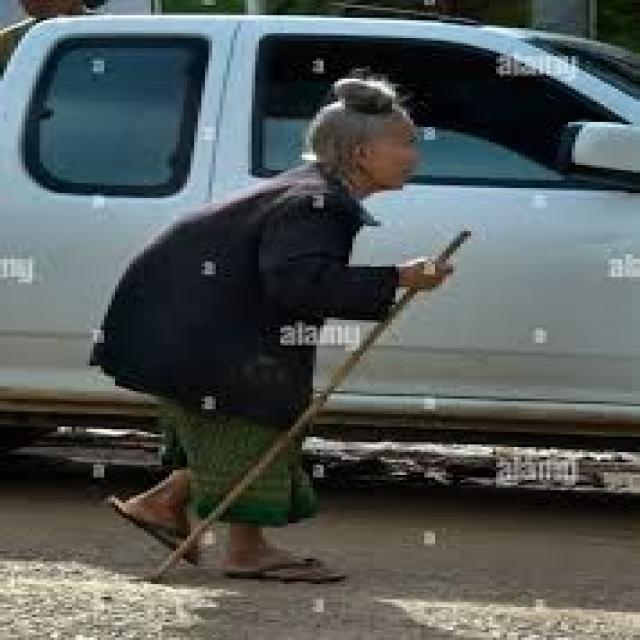idoso em pe: (108, 80, 441, 577)
